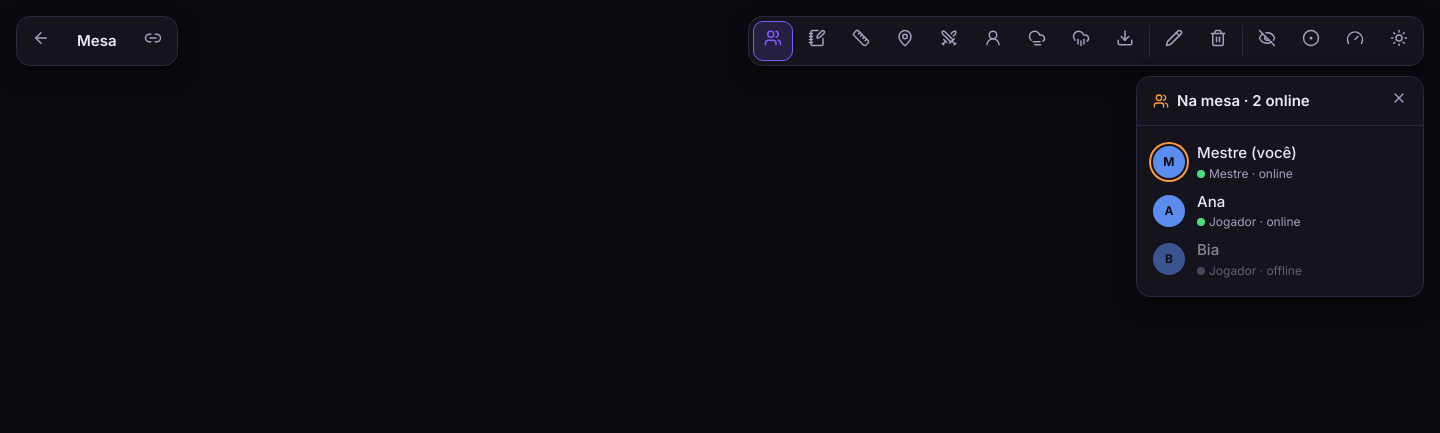
Test: anotações na barra da sala › shouldGiveTheGameMasterTheNewNoteButtonAndPlayersOnlyTheList
Click the button named "Anotações" at (817, 41), box [797,21,837,61]
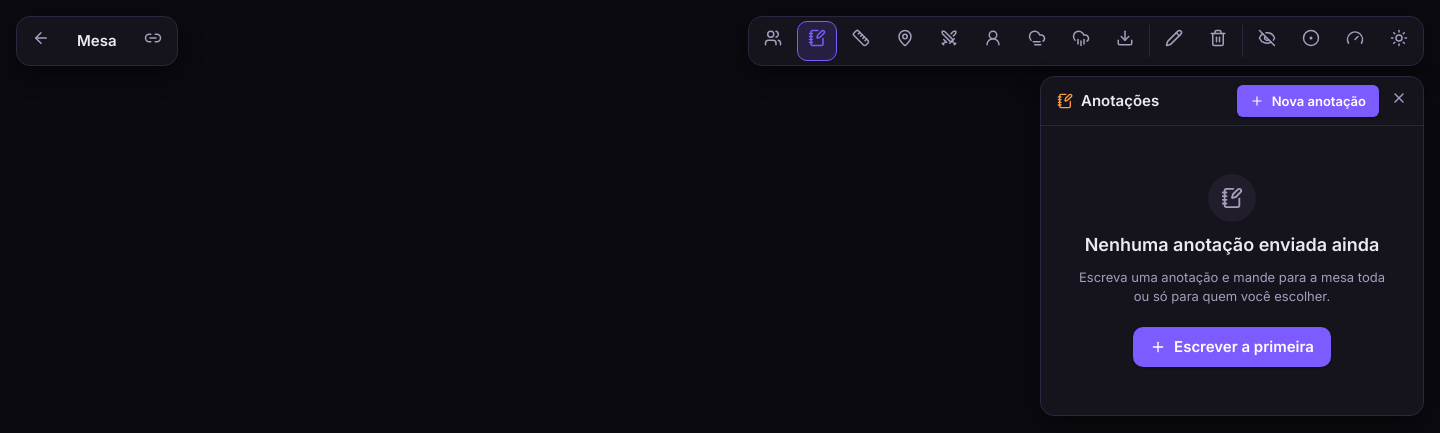
expect the heading "Nenhuma anotação enviada ainda" is shown: met, box [1085,234,1379,256]
expect the button "Nova anotação" is shown: met, box [1237,85,1379,117]
